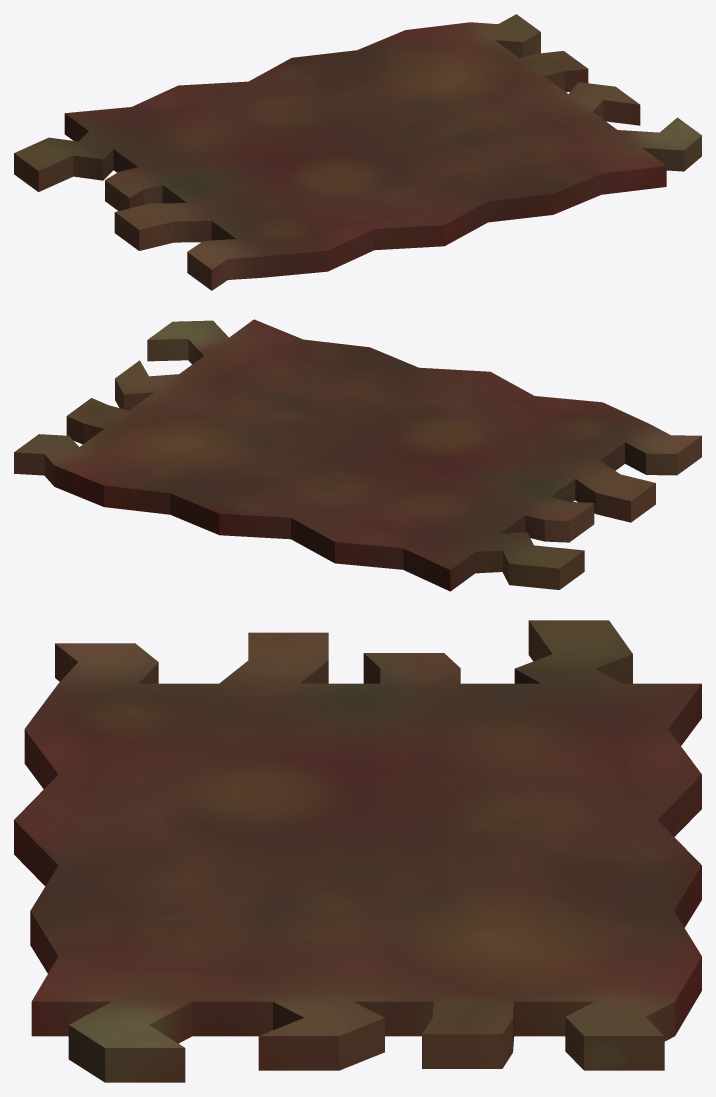
The model's file is SM_dywan.fbx.
The picture shows the model from 3 angles, top to bottom: view 1: azimuth 30°, elevation 25°; view 2: azimuth 150°, elevation 25°; view 3: azimuth 270°, elevation 25°; orthographic projection. The views are drawn at different scales.
Visible parts, largest first — view 1: Plane003.001; view 2: Plane003.001; view 3: Plane003.001.
Part boxes in pixels (x1,y1,x2,y2): Plane003.001: [14, 14, 701, 290]; Plane003.001: [14, 319, 701, 591]; Plane003.001: [14, 620, 701, 1082].
Bounding box in the file's own units: 324 × 12.24 × 221.
